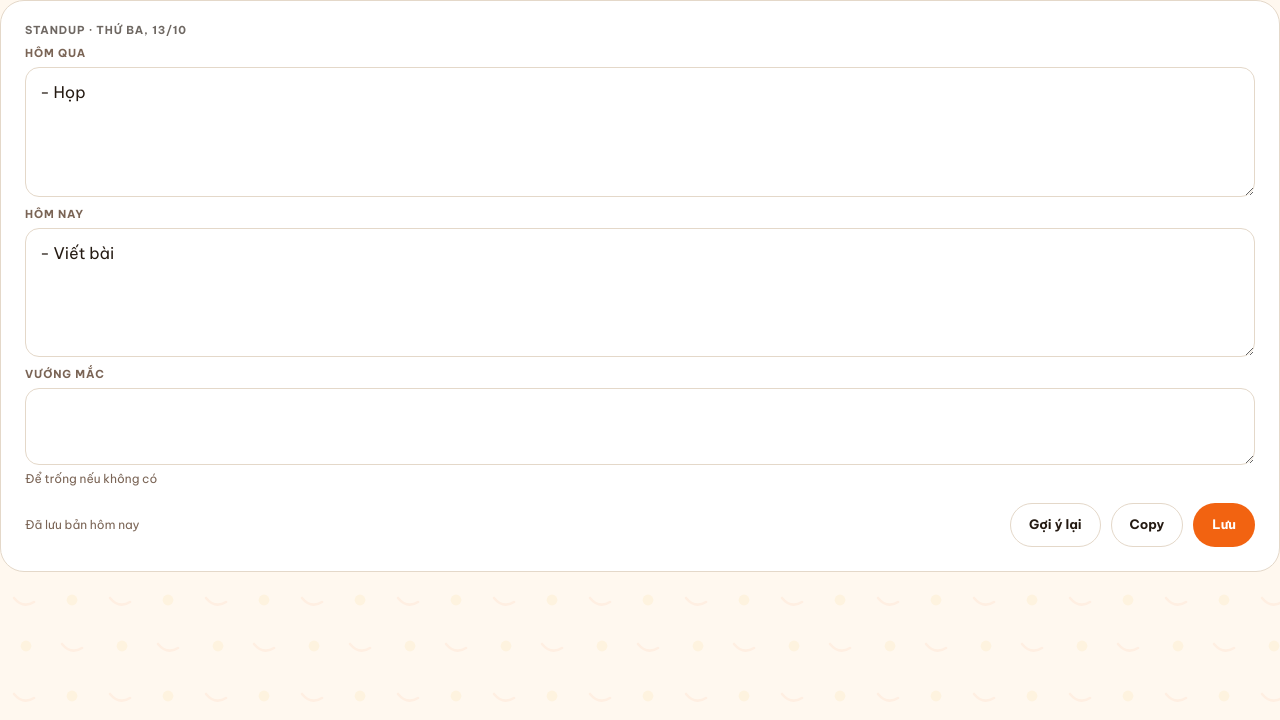
Test: StandupCard › says there are unsaved changes after editing a saved entry
The image size is (1280, 720).
Type "Chờ ảnh" into the text box labelled "Vướng mắc". click: (640, 426)
box: [25, 388, 1255, 465]
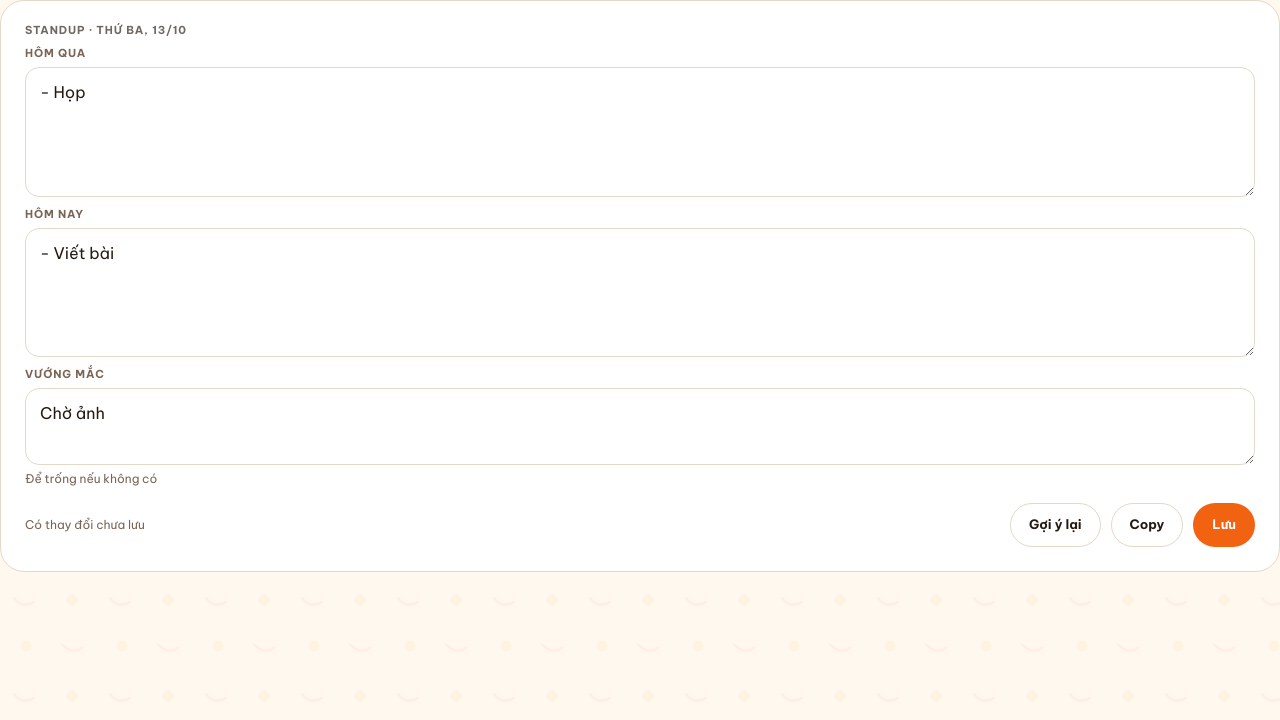
Check: the text "Có thay đổi chưa lưu" is shown, box [25, 517, 145, 533]
